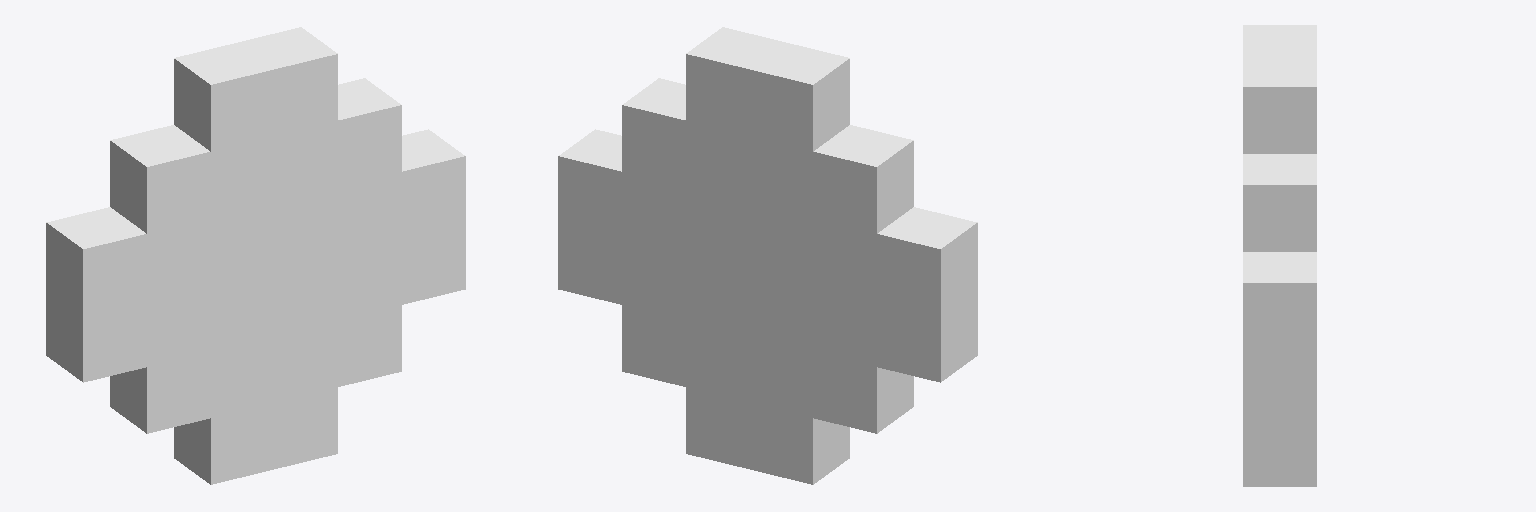
File: BottonRed.obj
3 views of the same model, side by side, from view 1: azimuth 30°, elevation 25°; view 2: azimuth 150°, elevation 25°; view 3: azimuth 270°, elevation 25° (orthographic).
Bounding box in the file's own units: 6 × 6 × 1.